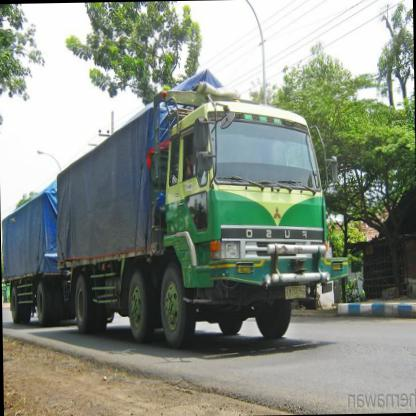truck: (159, 99, 332, 347)
